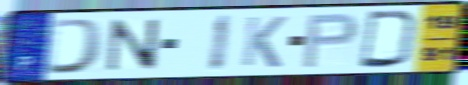D: (357, 9, 421, 70), (42, 17, 106, 76)
I: (207, 12, 235, 73)
K: (239, 15, 289, 70)
N: (105, 17, 162, 73)
P: (300, 11, 361, 70)
